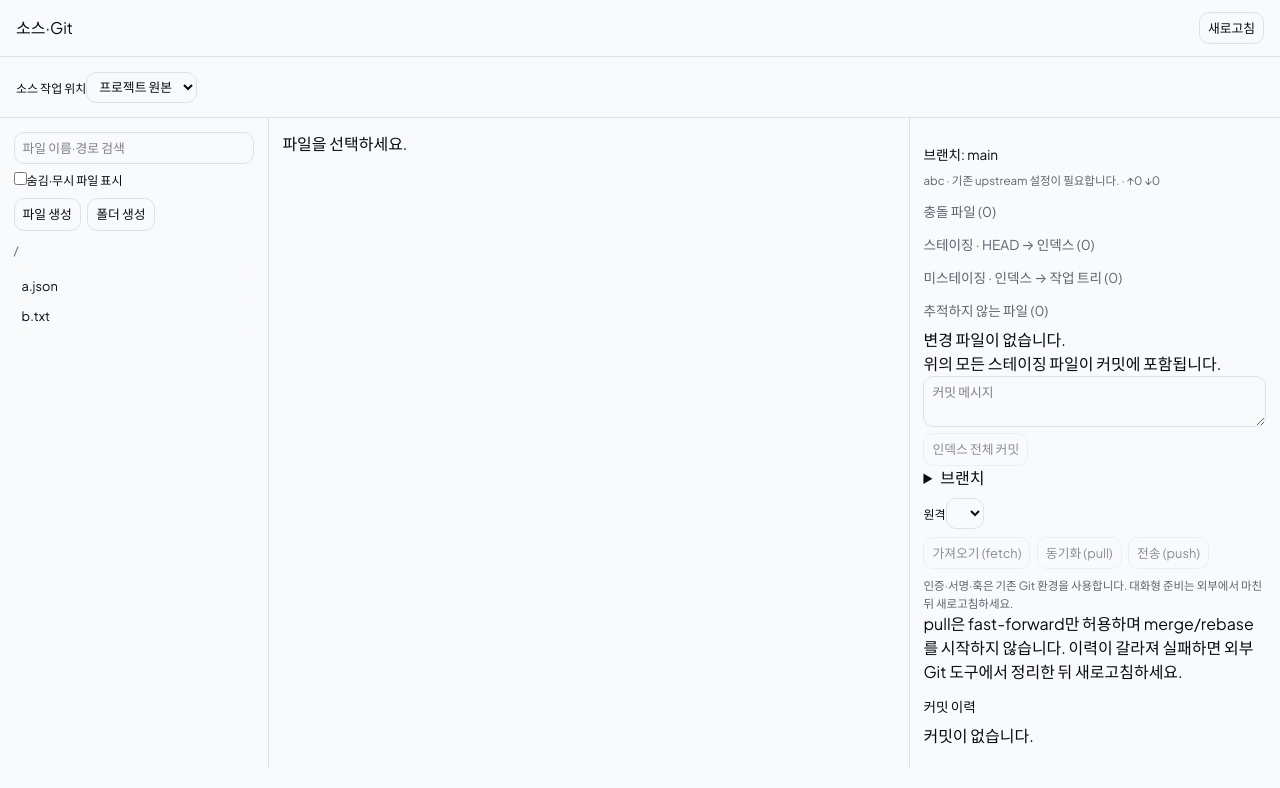
Scenario: keeps draft and blocks navigation when save fails, with latest content comparison
This screenshot has width=1280, height=788.
Click the button "a.json".
click(134, 286)  # box [14, 271, 254, 302]
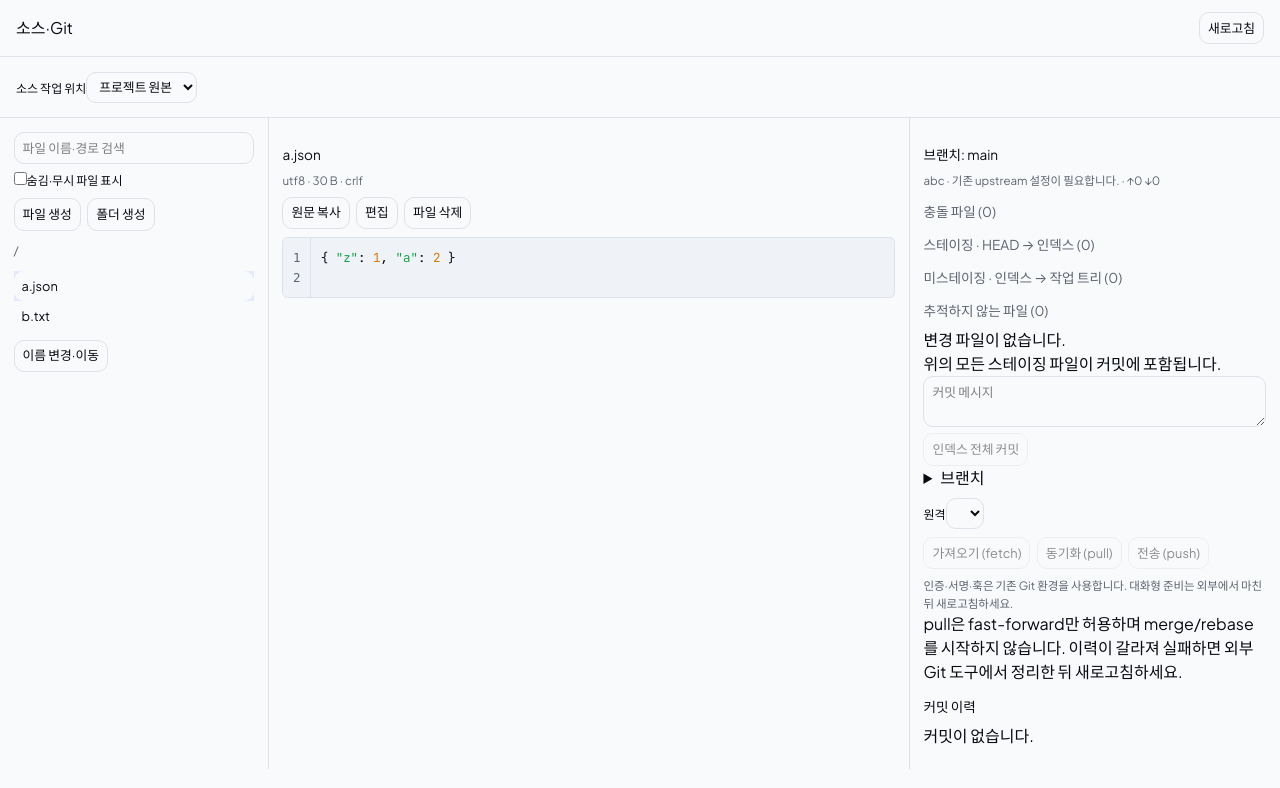
Click the button "편집".
click(377, 213)  # box [356, 197, 398, 229]
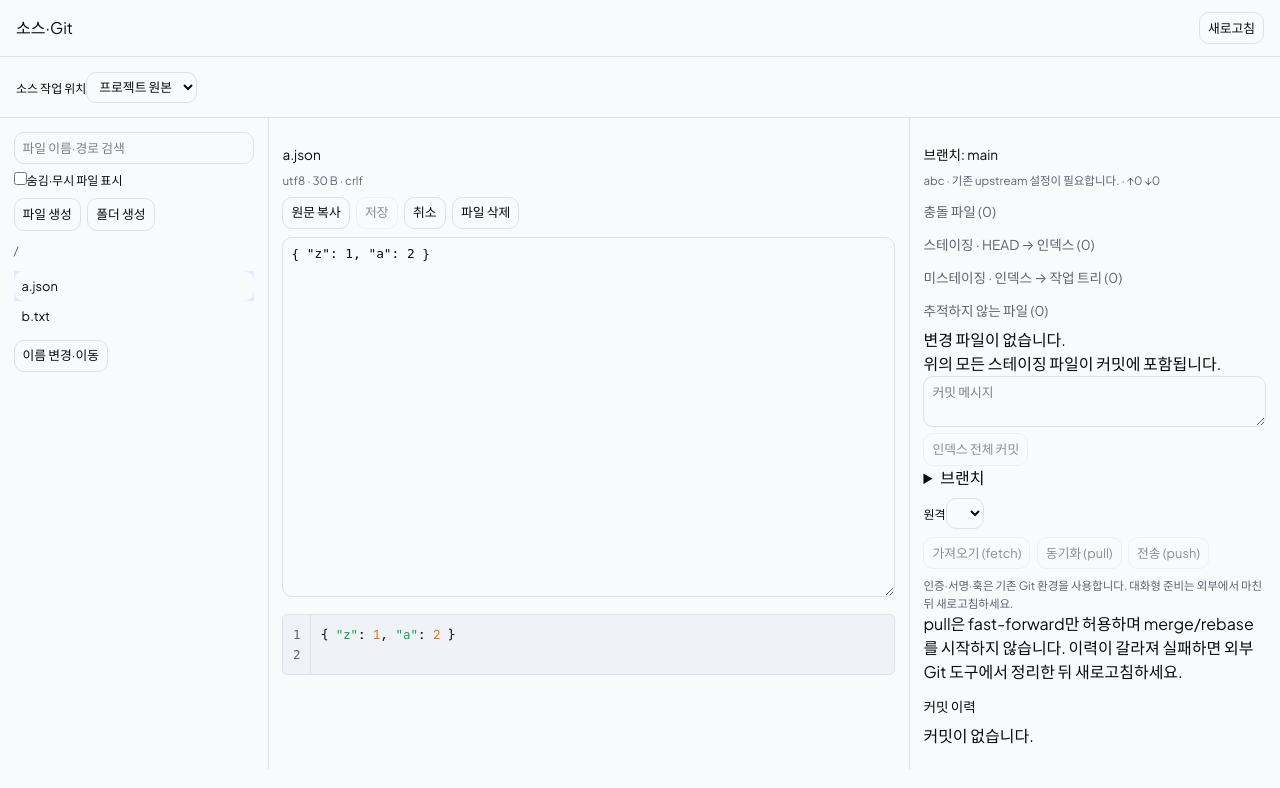
Replace the text in the text box named "파일 내용" with "my draft" at x=589, y=417, box [282, 237, 895, 597]
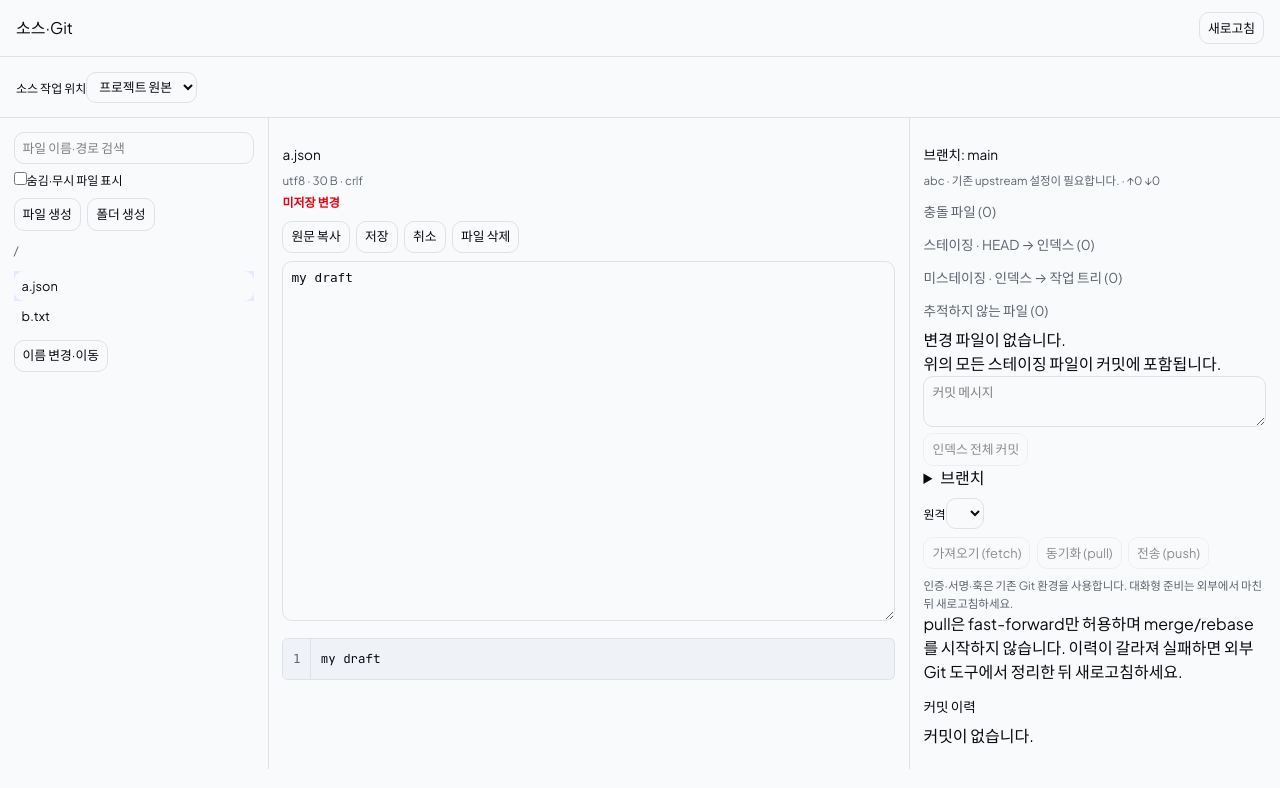
Click the button "b.txt".
click(134, 317)  # box [14, 301, 254, 332]
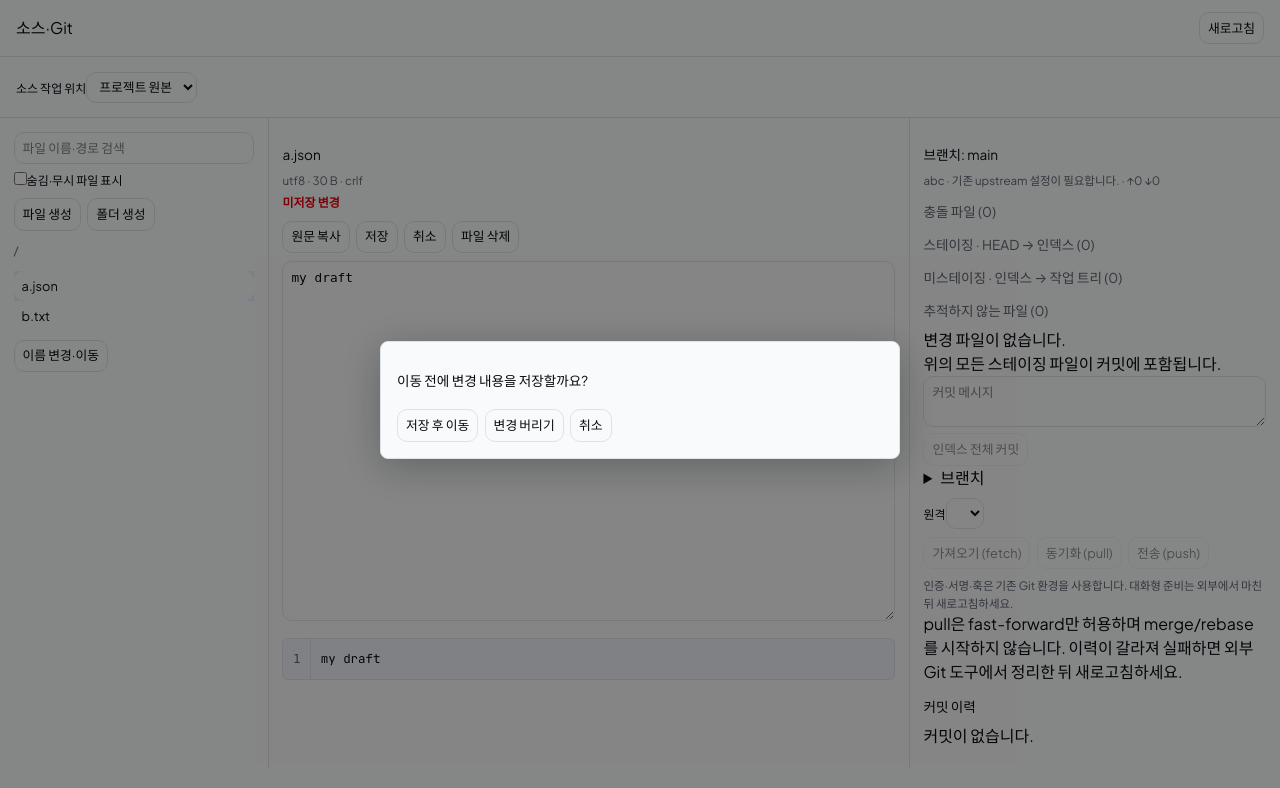
Click the button "저장 후 이동".
click(438, 425)  # box [397, 409, 478, 442]
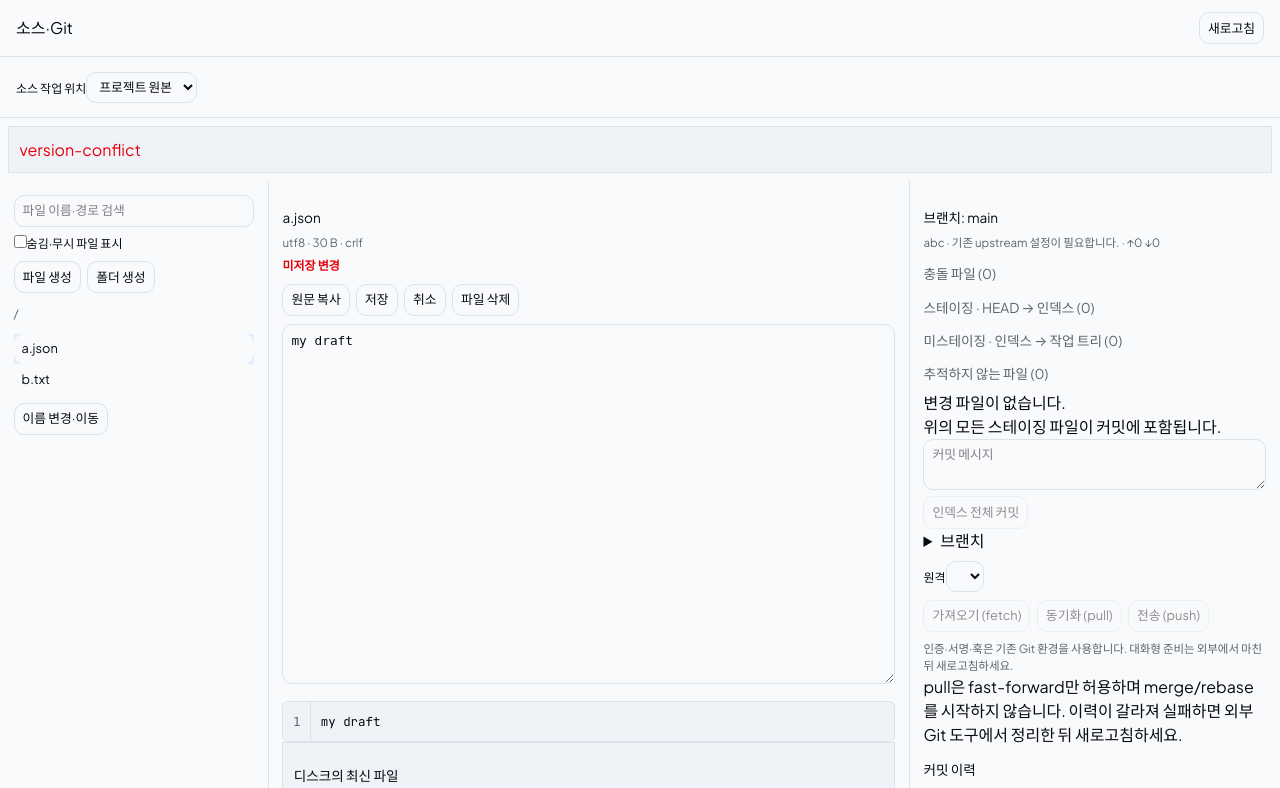
Check: the message reads "version-conflict", box [19, 139, 141, 160]
